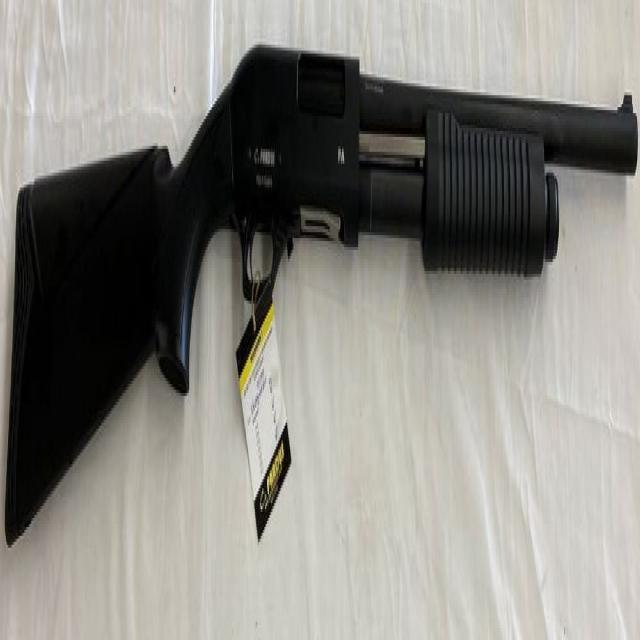ShotGun: (4, 45, 640, 548)
